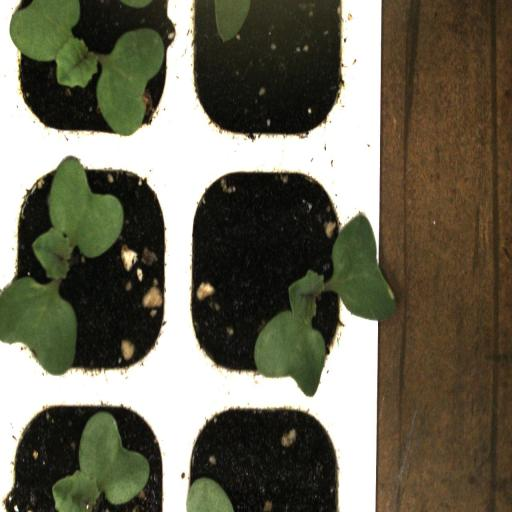seedling: (184, 150, 360, 396), (10, 151, 182, 387), (1, 0, 184, 150), (8, 394, 182, 512)
